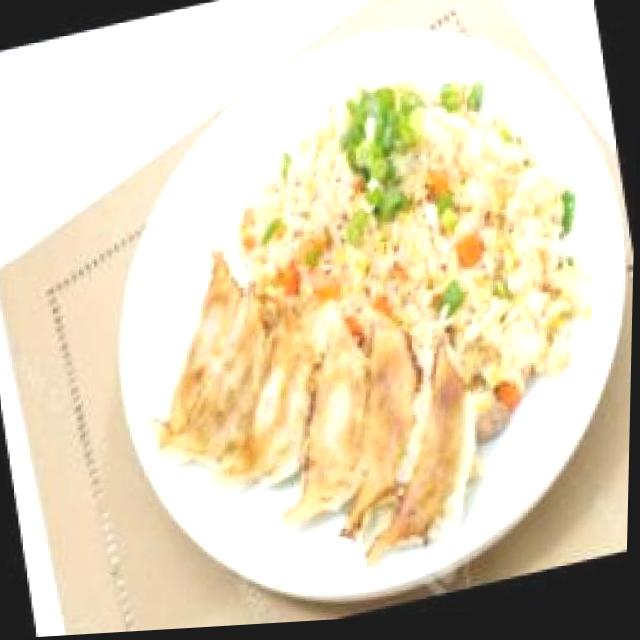fried_dumplings: (144, 212, 494, 621)
